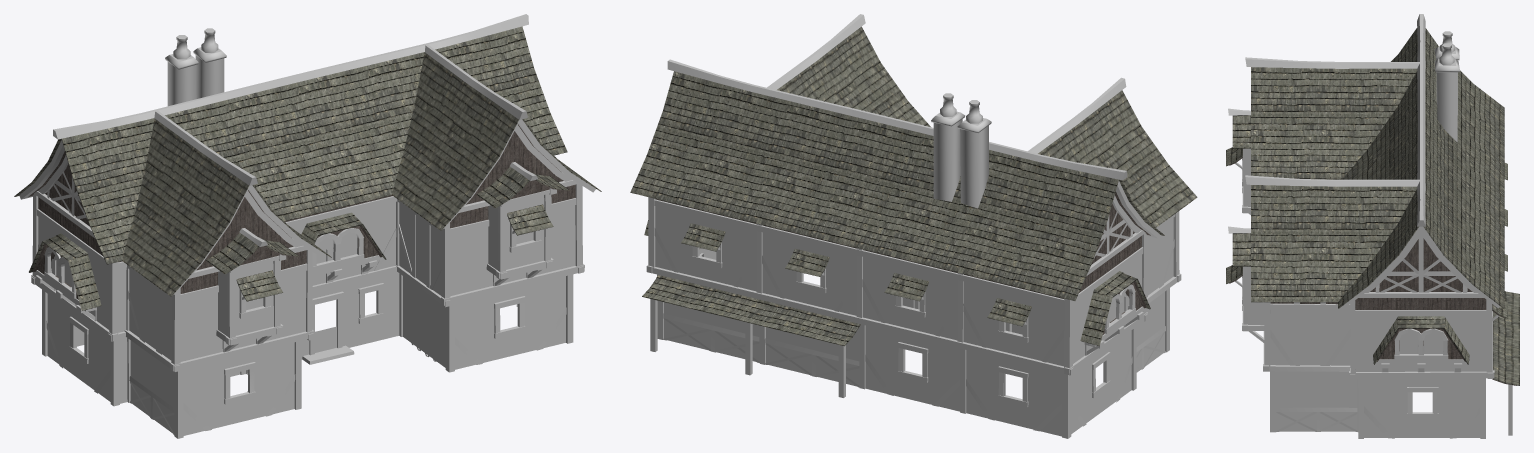
The model's file is mw_type_1_cottage_08_LOD1.FBX.
3 renders of one model, left to right at view 1: azimuth 30°, elevation 25°; view 2: azimuth 150°, elevation 25°; view 3: azimuth 270°, elevation 25°, orthographic. The views are drawn at different scales.
Visible parts, largest first — view 1: mw_type_1_cottage_08_roof, mw_type_1_cottage_08_wood, mw_type_1_cottage_08_stone; view 2: mw_type_1_cottage_08_roof, mw_type_1_cottage_08_stone, mw_type_1_cottage_08_wood; view 3: mw_type_1_cottage_08_roof, mw_type_1_cottage_08_wood, mw_type_1_cottage_08_stone.
Part boxes in pixels (<box>): mw_type_1_cottage_08_roof: <box>14,26,601,310</box>; mw_type_1_cottage_08_wood: <box>19,14,595,438</box>; mw_type_1_cottage_08_stone: <box>38,28,575,435</box>; mw_type_1_cottage_08_roof: <box>630,26,1197,346</box>; mw_type_1_cottage_08_stone: <box>655,93,1173,436</box>; mw_type_1_cottage_08_wood: <box>646,14,1181,438</box>; mw_type_1_cottage_08_roof: <box>1226,28,1519,385</box>; mw_type_1_cottage_08_wood: <box>1228,14,1516,438</box>; mw_type_1_cottage_08_stone: <box>1247,31,1486,437</box>.
Size of what is drawn, in the model's own units: 2445 by 1502 by 1471.
